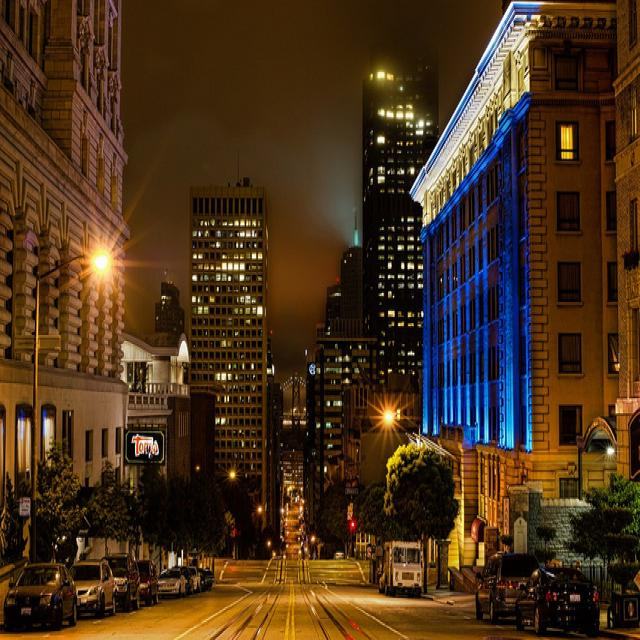Vehicle: (515, 566, 600, 638), (2, 562, 79, 633), (474, 552, 540, 624), (377, 538, 427, 598), (74, 560, 120, 614), (102, 552, 139, 612), (136, 560, 160, 608), (158, 568, 188, 600), (195, 566, 215, 592), (188, 564, 202, 592), (189, 566, 201, 594)
